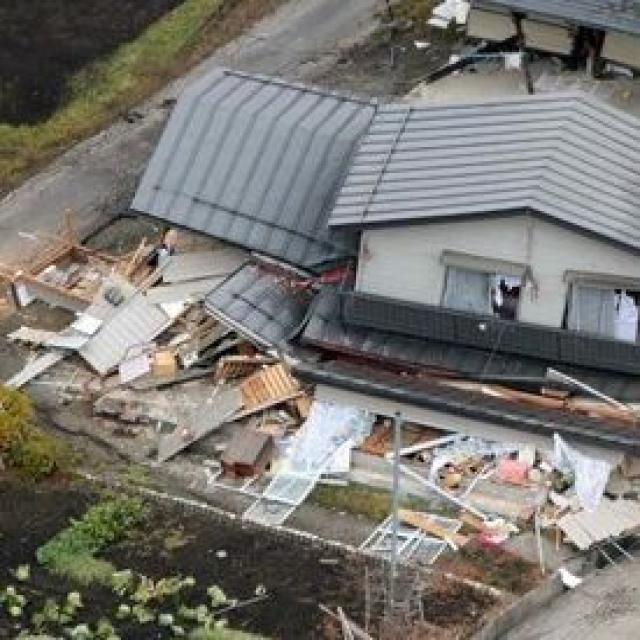collapsed_building: (0, 168, 638, 519)
